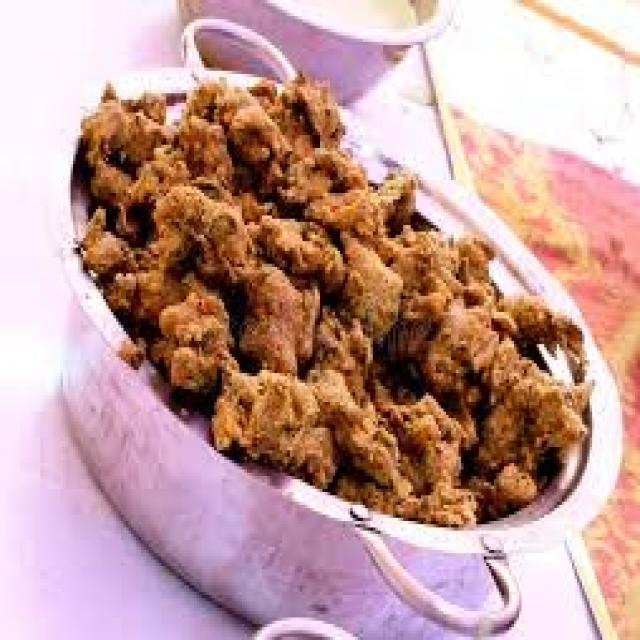BAJI: (86, 72, 597, 505)
